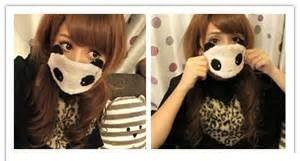OK: (204, 31, 248, 75)
WRONG: (52, 38, 104, 90)
